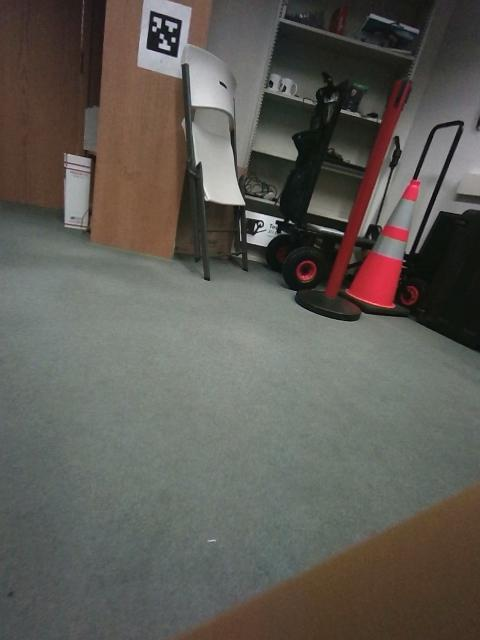block: (375, 392, 437, 467)
